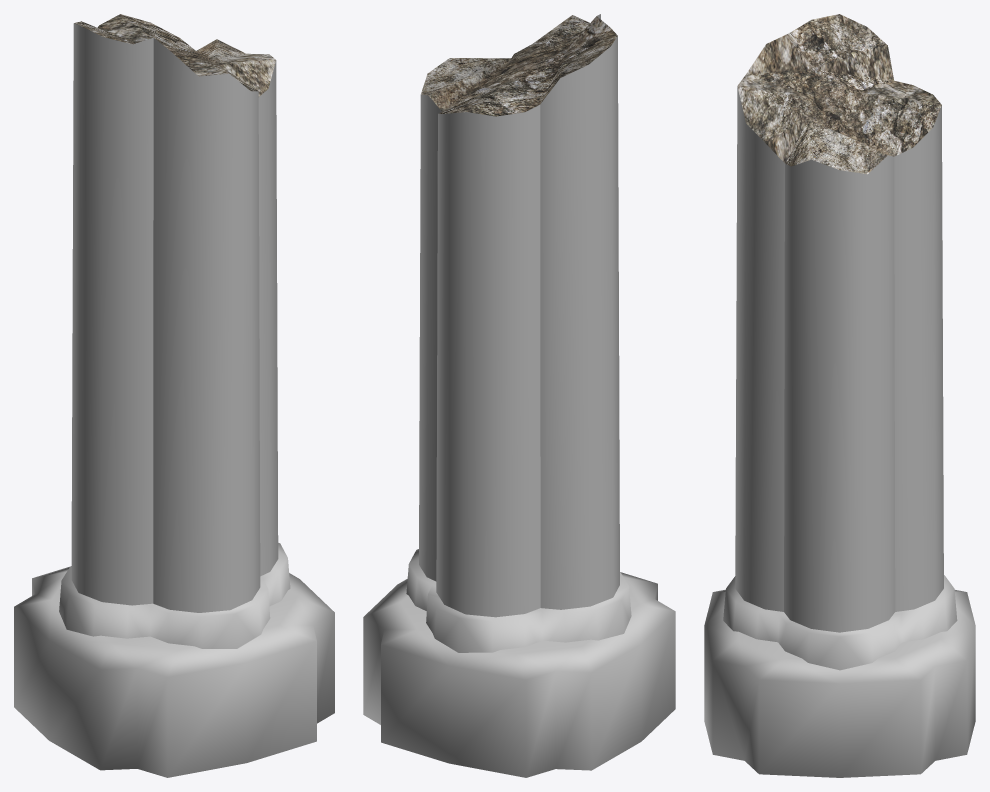
File: Ruins_17B.fbx
The picture shows the model from 3 angles, left to right: view 1: azimuth 30°, elevation 25°; view 2: azimuth 150°, elevation 25°; view 3: azimuth 270°, elevation 25°; orthographic projection. The views are drawn at different scales.
Parts seen in each view (by area): view 1: polySurface3163; view 2: polySurface3163; view 3: polySurface3163.
Boxes of the visible parts, bbox=[...] form: polySurface3163: bbox=[14, 14, 334, 777]; polySurface3163: bbox=[363, 14, 675, 777]; polySurface3163: bbox=[704, 14, 975, 777].
Size of the model in its own units: 1.12 by 3.07 by 1.12.
